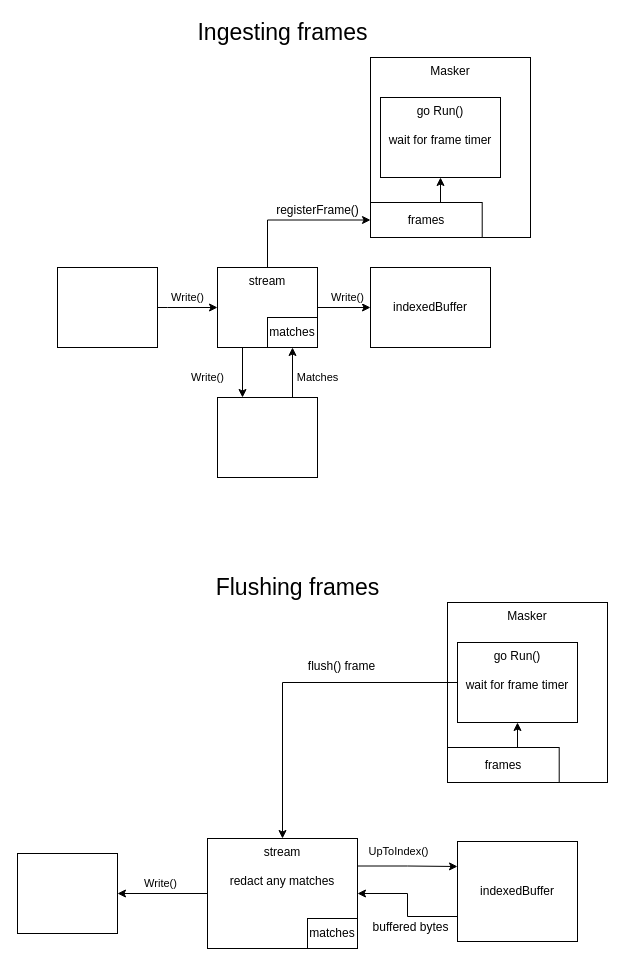
This 625x966 diagram has some shape labels left out. The shapes that lost their labels are listed below. From the top down, each one's centre as x and y in pixels, then its label:
At [107,307]: "process's stdout".
At [267,437]: "matcher".
At [67,893]: "destination".
